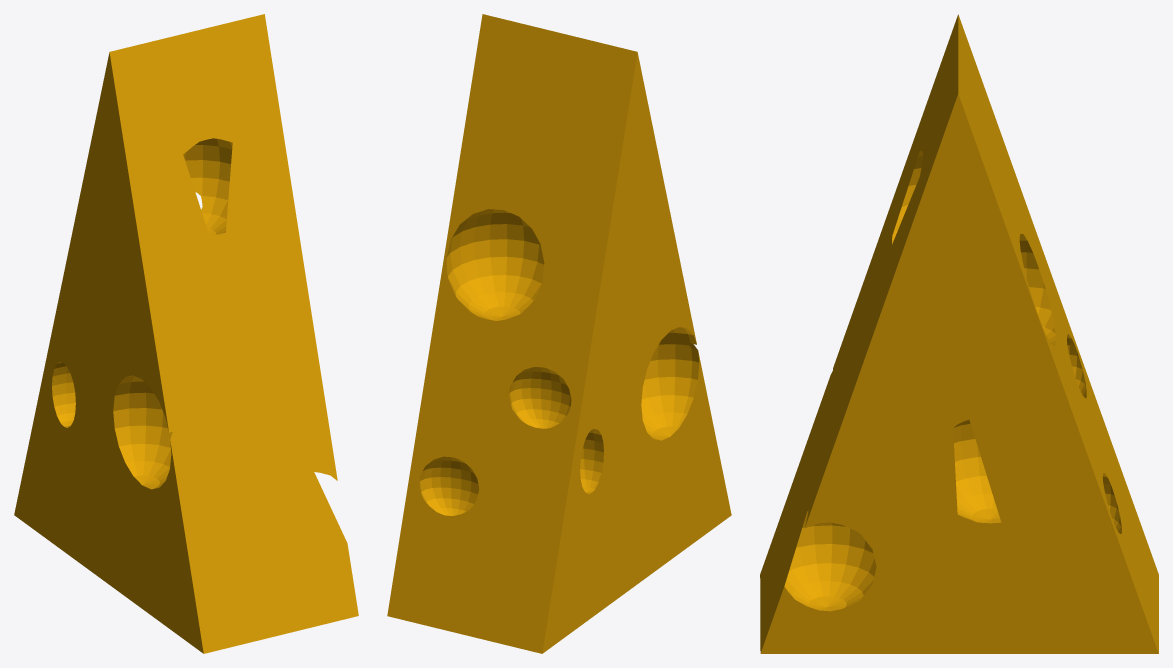
File: Slice of CHEEESE.fbx
The picture shows the model from 3 angles, left to right: view 1: azimuth 30°, elevation 25°; view 2: azimuth 150°, elevation 25°; view 3: azimuth 270°, elevation 25°; orthographic projection. The views are drawn at different scales.
Visible parts, largest first — view 1: Cheese; view 2: Cheese; view 3: Cheese.
Boxes of the visible parts, bbox=[...] form: Cheese: bbox=[14, 14, 358, 653]; Cheese: bbox=[387, 14, 731, 653]; Cheese: bbox=[760, 14, 1158, 653].
Bounding box in the file's own units: 3.06 × 10.06 × 6.48.
